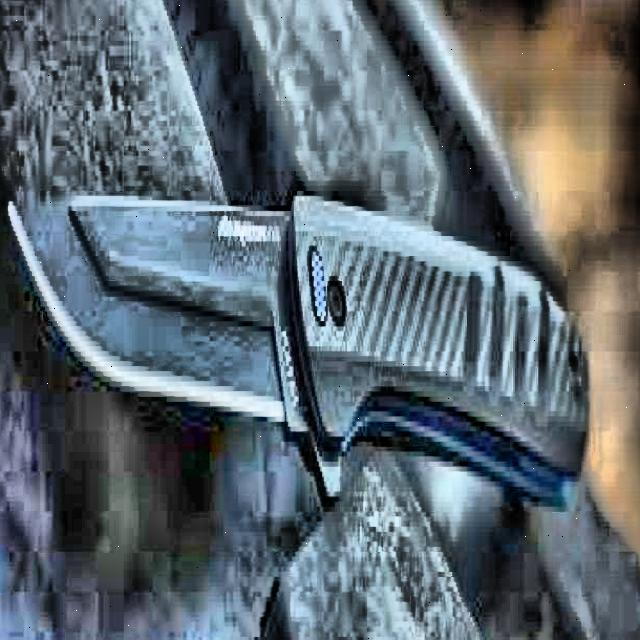knife: (2, 170, 595, 494)
